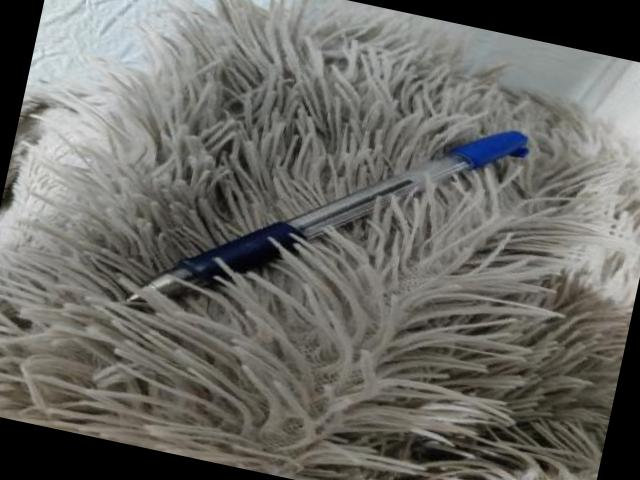PEN: (99, 109, 542, 323)
